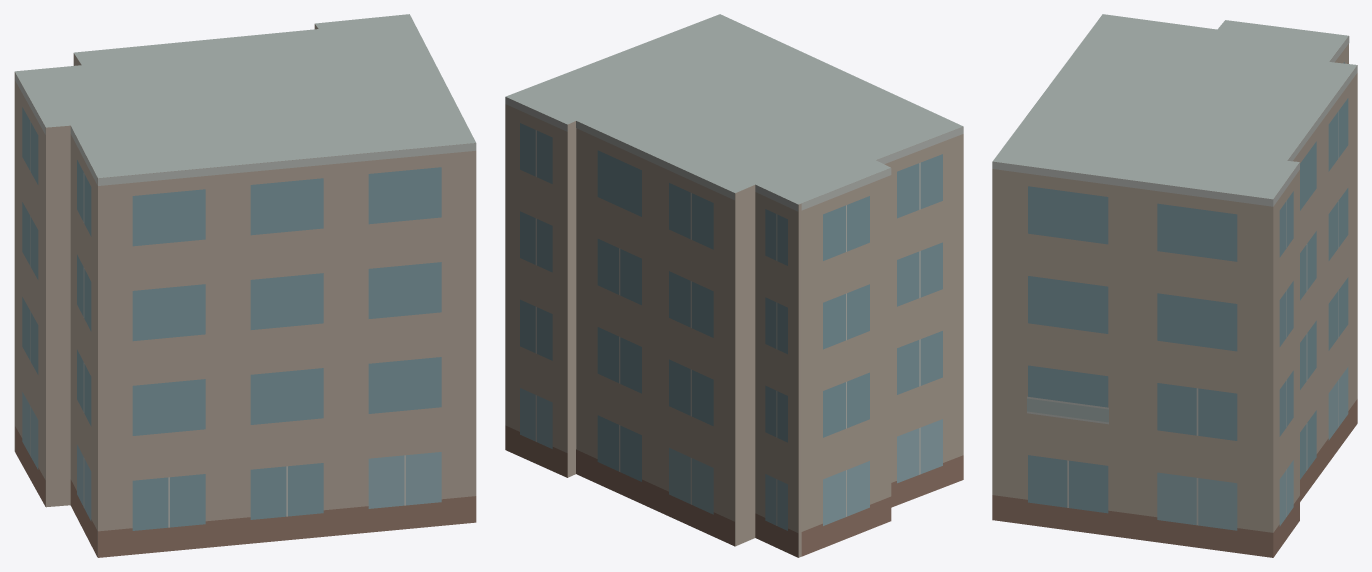
File: survey-upis-32614880.glb
3 renders of one model, left to right at view 1: azimuth 30°, elevation 25°; view 2: azimuth 150°, elevation 25°; view 3: azimuth 270°, elevation 25°, orthographic. The views are drawn at different scales.
Visible parts, largest first — view 1: survey-upis-32614880.tmp; view 2: survey-upis-32614880.tmp; view 3: survey-upis-32614880.tmp.
Boxes of the visible parts, x1,y1,x2,y2 form: survey-upis-32614880.tmp: [14, 14, 476, 557]; survey-upis-32614880.tmp: [505, 14, 963, 557]; survey-upis-32614880.tmp: [992, 14, 1357, 557].
Bounding box in the file's own units: 13.09 × 11.8 × 10.9.
